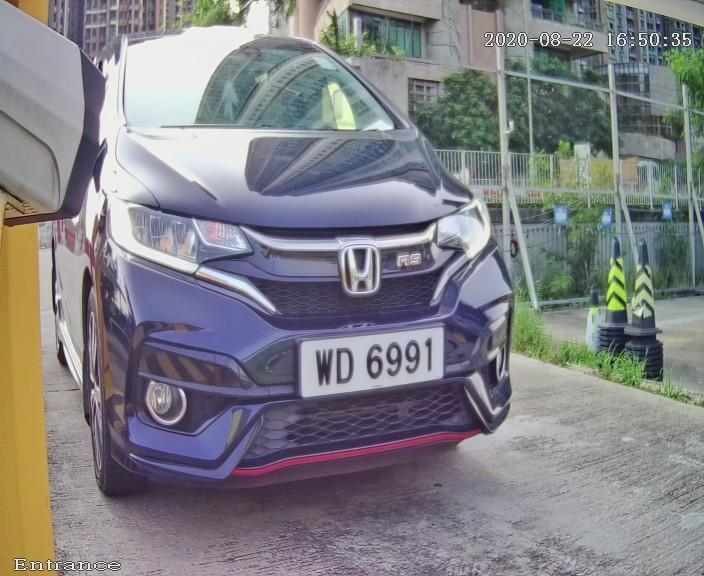Car: (35, 3, 551, 535)
License Plate: (282, 305, 468, 416)
